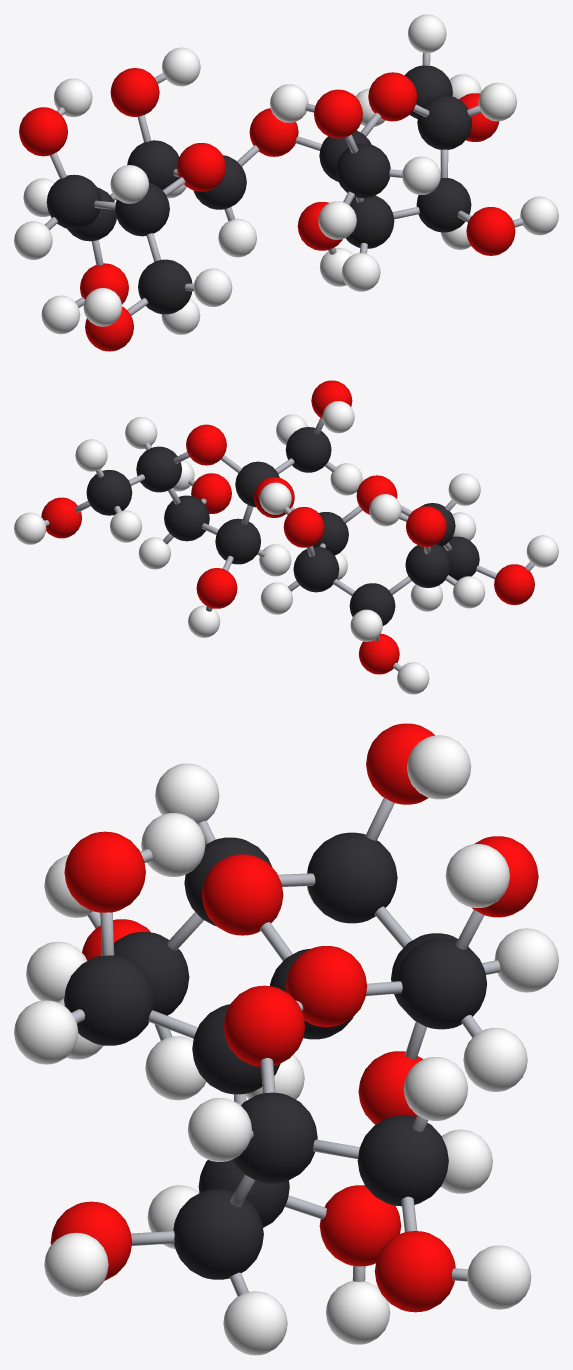
File: sucrose.glb
3 views of the same model, one above another, from view 1: azimuth 30°, elevation 25°; view 2: azimuth 150°, elevation 25°; view 3: azimuth 270°, elevation 25° (orthographic). The views are drawn at different scales.
Parts seen in each view (by area): view 1: C5, C13, C11, C2, C21, O6, O14, O22, O18, O3, C10, O9 (+31 smaller); view 2: C5, C17, C19, C21, C2, C1, C13, O20, O3, O18, O12, O14 (+31 smaller); view 3: C13, C17, C21, C1, C5, C2, O6, O0, O9, O3, O7, O20 (+29 smaller).
Part boxes in pixels (box(x1,y1,x2,y2)): C5: box(336, 143, 390, 198); C13: box(46, 174, 101, 229); C11: box(138, 259, 192, 314); C2: box(417, 95, 472, 149); C21: box(416, 178, 471, 232); O6: box(314, 89, 362, 138); O14: box(19, 107, 67, 156); O22: box(466, 207, 515, 255); O18: box(110, 68, 159, 116); O3: box(368, 72, 417, 121); C10: box(115, 182, 169, 236); O9: box(177, 143, 225, 191); C5: box(285, 427, 331, 472); C17: box(293, 546, 339, 592); C19: box(215, 518, 260, 564); C21: box(164, 495, 209, 541); C2: box(136, 446, 181, 492); C1: box(86, 470, 132, 515); C13: box(405, 544, 451, 587); O20: box(196, 568, 237, 608); O3: box(186, 424, 226, 465); O18: box(283, 507, 324, 547); O12: box(494, 564, 534, 604); O14: box(406, 506, 446, 546); C13: box(307, 832, 397, 923); C17: box(396, 938, 486, 1029); C21: box(173, 1189, 263, 1279); C1: box(357, 1115, 448, 1206); C5: box(64, 955, 155, 1045); C2: box(232, 1092, 317, 1183); O6: box(64, 831, 145, 912); O0: box(374, 1231, 455, 1312); O9: box(202, 854, 283, 935); O3: box(223, 985, 305, 1066); O7: box(285, 946, 367, 1026); O20: box(319, 1185, 401, 1266).
Size of the model in its own units: 11.16 by 5.48 by 6.09.
